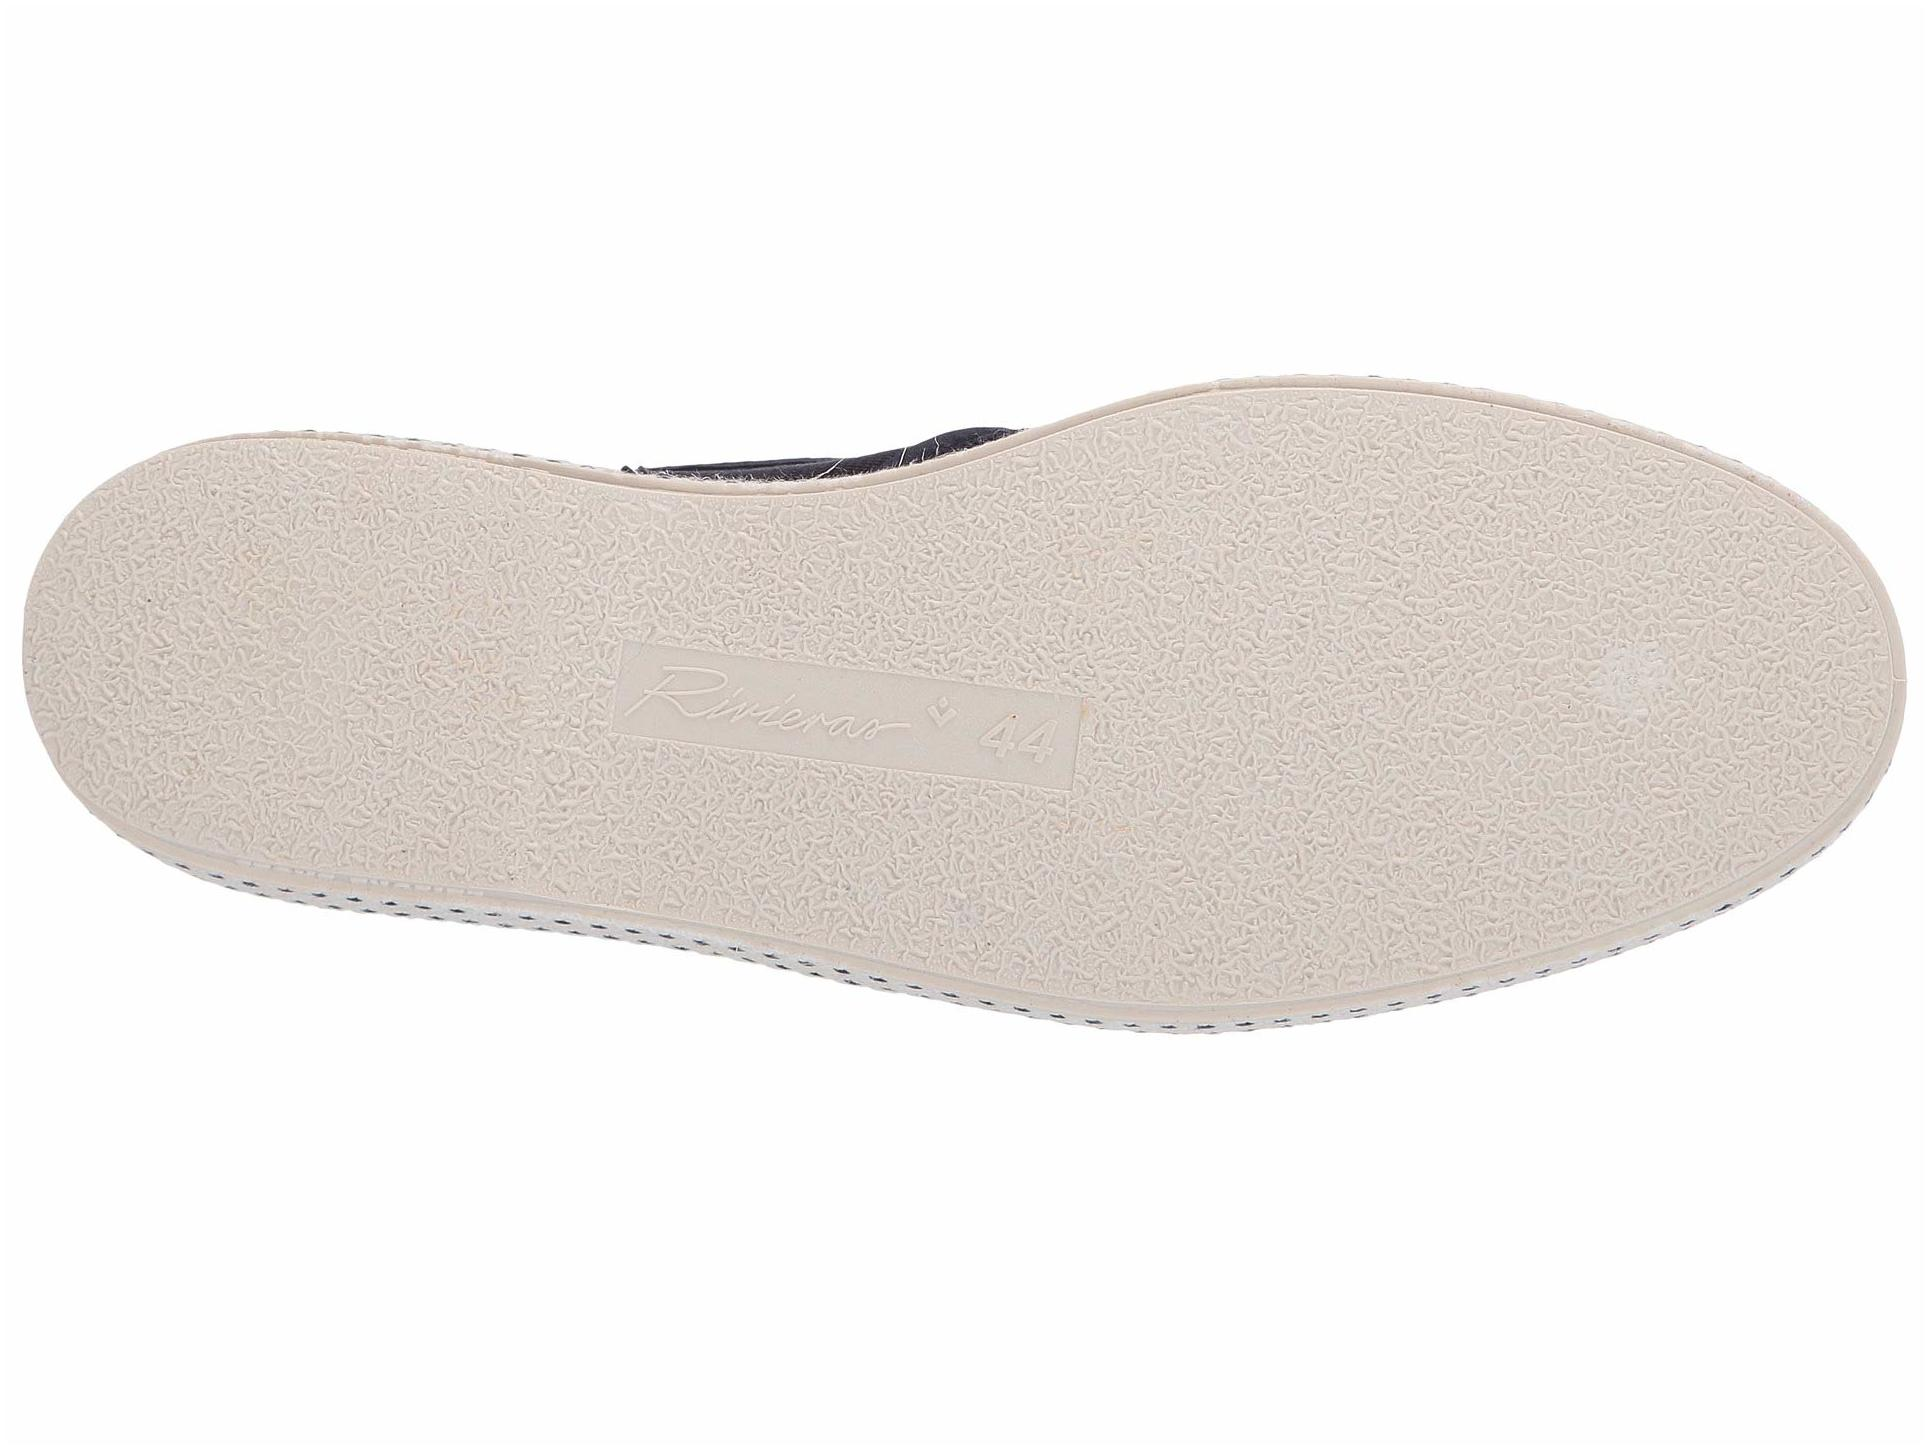other: (570, 500, 1118, 984), (1181, 484, 1567, 864)
quad: (570, 500, 1118, 984)
text: (570, 500, 1118, 984)
